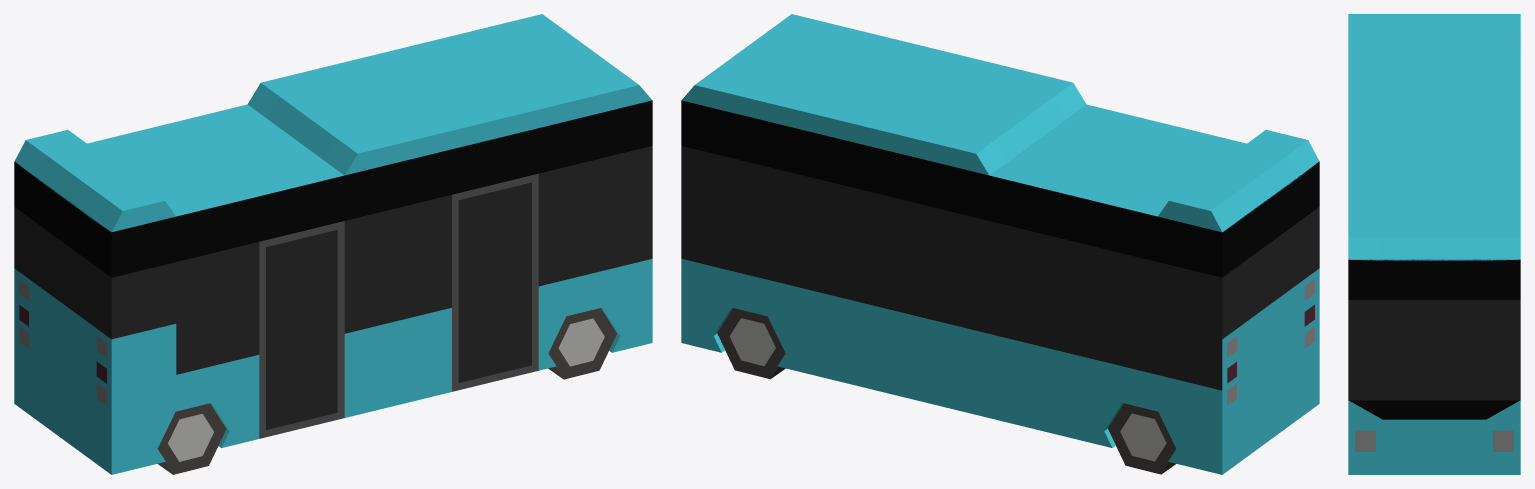
Rendered from Bus1.2.fbx.
3 views of the same model, side by side, from view 1: azimuth 30°, elevation 25°; view 2: azimuth 150°, elevation 25°; view 3: azimuth 270°, elevation 25° (orthographic). The views are drawn at different scales.
Visible parts, largest first — view 1: Cube.012; view 2: Cube.012; view 3: Cube.012.
Boxes of the visible parts, left/top/right/bottom form: Cube.012: left=14, top=14, right=652, bottom=474; Cube.012: left=681, top=14, right=1319, bottom=474; Cube.012: left=1348, top=14, right=1520, bottom=474.
Bounding box in the file's own units: 867 × 427 × 270.
